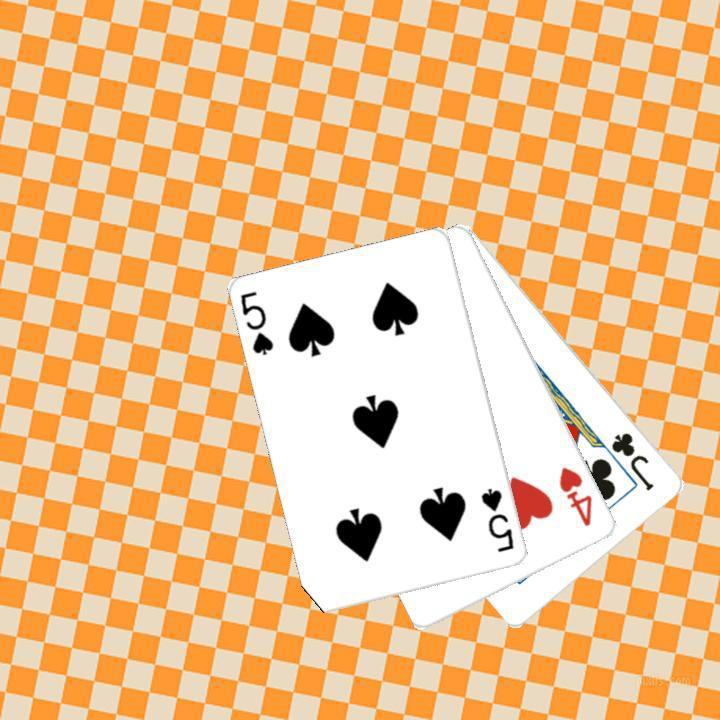4: (555, 463, 595, 529)
5: (477, 484, 517, 555), (236, 287, 276, 358)
J: (607, 428, 656, 493)
